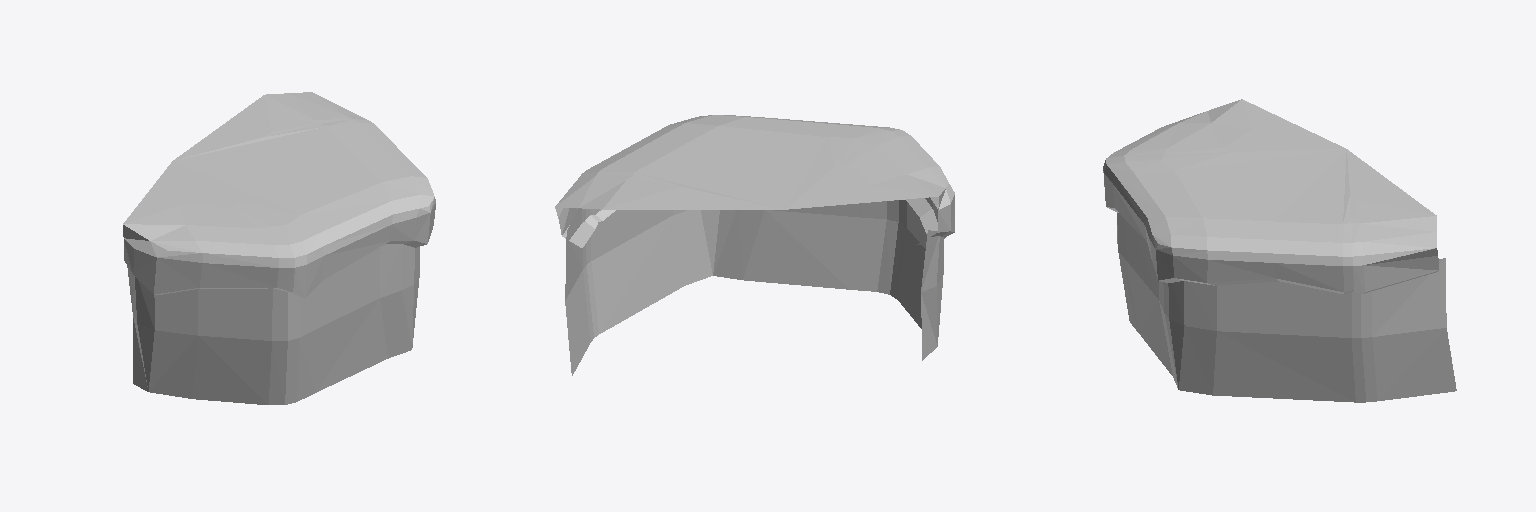
Rendered from qiang2.obj.
3 views of the same model, side by side, from view 1: azimuth 30°, elevation 25°; view 2: azimuth 150°, elevation 25°; view 3: azimuth 270°, elevation 25° (orthographic).
Visible parts, largest first — view 1: qiang:polySurface27; view 2: qiang:polySurface27; view 3: qiang:polySurface27.
Part boxes in pixels (left/top/right/bottom): qiang:polySurface27: left=123, top=92, right=435, bottom=404; qiang:polySurface27: left=555, top=115, right=954, bottom=375; qiang:polySurface27: left=1103, top=99, right=1456, bottom=402.
Bounding box in the file's own units: 10.52 × 5.45 × 10.56.